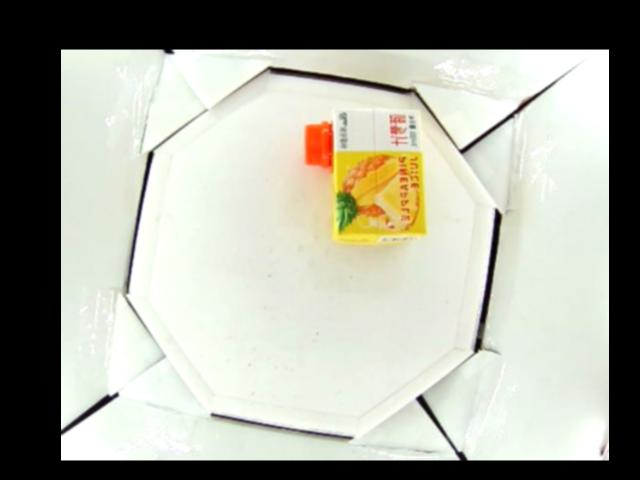Bottle: (302, 105, 429, 242)
